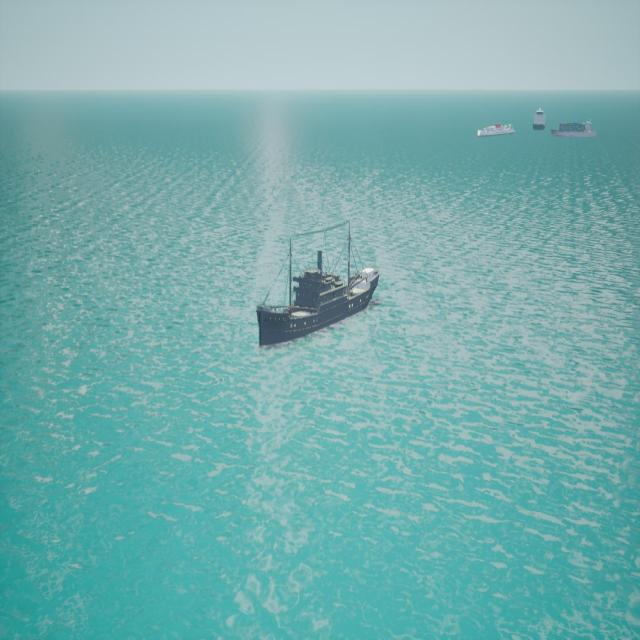fishing ship: (256, 259, 383, 349), (555, 123, 600, 139), (478, 125, 518, 138), (536, 109, 549, 132)
